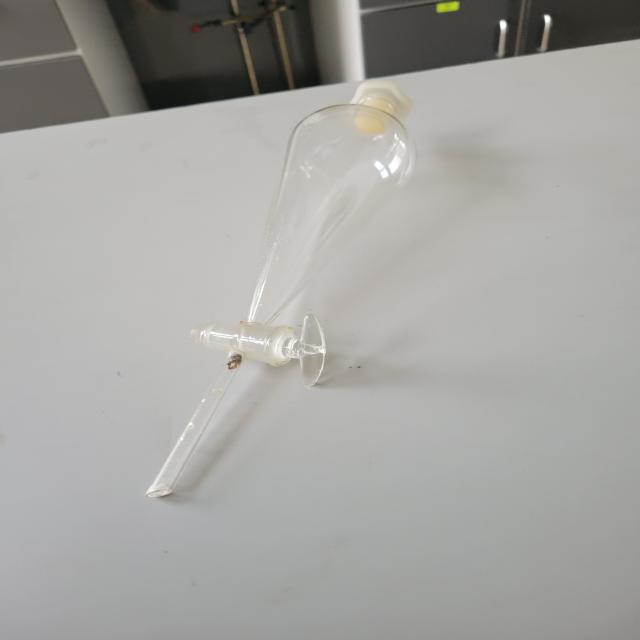Separating_Funnel: (115, 37, 438, 530)
